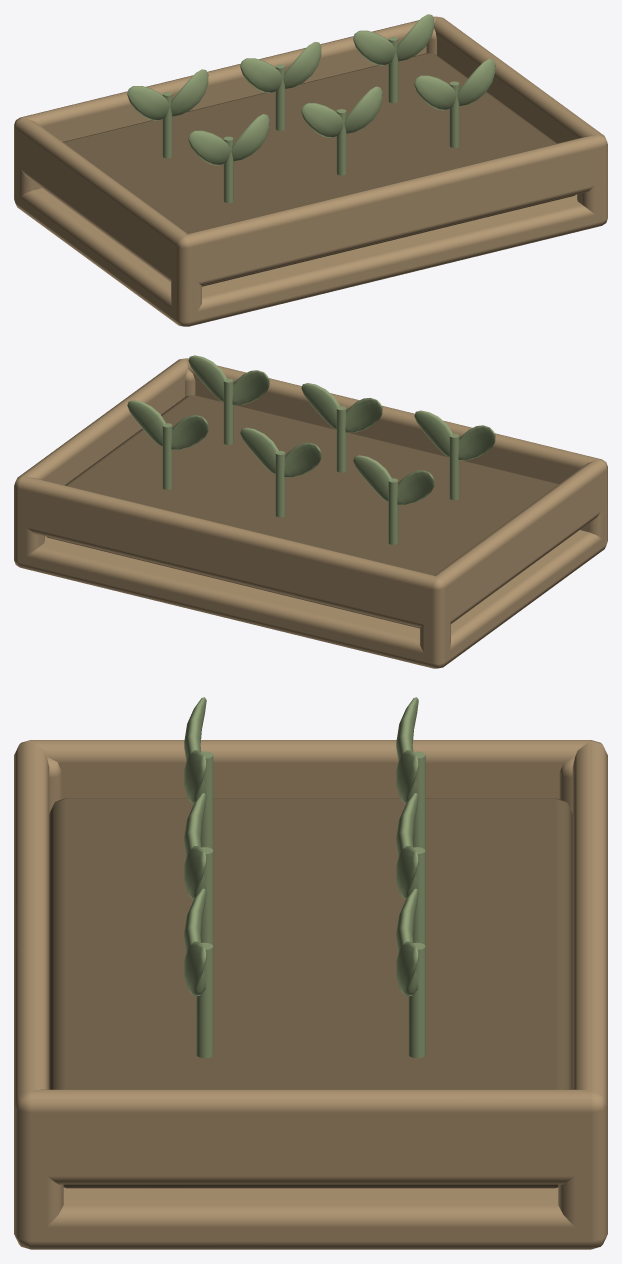
The model's file is seedtray.glb.
The picture shows the model from 3 angles, top to bottom: view 1: azimuth 30°, elevation 25°; view 2: azimuth 150°, elevation 25°; view 3: azimuth 270°, elevation 25°; orthographic projection. The views are drawn at different scales.
Visible parts, largest first — view 1: contained-seed-soil, seed-tray-floor, seed-tray-long-slat-2-1, seed-tray-long-slat-0-1, seed-tray-long-slat-2--1, seed-tray-long-slat-1-1, seed-tray-end-slat-2--1, seed-tray-end-slat-2-1, seed-tray-end-slat-0--1, seed-tray-end-slat-1--1, seed-tray-long-slat-1--1, seed-tray-corner--1-1 (+23 smaller); view 2: contained-seed-soil, seed-tray-floor, seed-tray-long-slat-2--1, seed-tray-long-slat-0--1, seed-tray-long-slat-2-1, seed-tray-end-slat-2--1, seed-tray-end-slat-2-1, seed-tray-end-slat-0--1, seed-tray-long-slat-1--1, seed-tray-end-slat-1--1, seed-tray-long-slat-1-1, seed-tray-long-slat-0-1 (+23 smaller); view 3: contained-seed-soil, seed-tray-floor, seed-tray-end-slat-0-1, seed-tray-end-slat-2--1, seed-tray-end-slat-2-1, seed-tray-end-slat-1-1, seed-tray-long-slat-2--1, seed-tray-long-slat-2-1, seed-tray-end-slat-1--1, seed-tray-end-slat-0--1, seed-tray-corner-1--1, seed-tray-corner-1-1 (+18 smaller).
Part boxes in pixels (x1,y1,x2,y2): contained-seed-soil: (63, 53, 574, 286); seed-tray-floor: (14, 188, 607, 326); seed-tray-long-slat-2-1: (176, 134, 607, 265); seed-tray-long-slat-0-1: (183, 161, 607, 285); seed-tray-long-slat-2--1: (14, 16, 441, 149); seed-tray-long-slat-1-1: (176, 152, 607, 276); seed-tray-end-slat-2--1: (14, 117, 190, 263); seed-tray-end-slat-2-1: (434, 17, 607, 146); seed-tray-end-slat-0--1: (14, 143, 189, 284); seed-tray-end-slat-1--1: (14, 134, 189, 277); seed-tray-long-slat-1--1: (14, 45, 426, 156); seed-tray-corner--1-1: (171, 249, 201, 325); contained-seed-soil: (46, 395, 558, 628); seed-tray-floor: (15, 530, 607, 668); seed-tray-long-slat-2--1: (15, 476, 445, 610); seed-tray-long-slat-0--1: (16, 502, 445, 627); seed-tray-long-slat-2-1: (183, 358, 607, 479); seed-tray-end-slat-2--1: (431, 459, 607, 607); seed-tray-end-slat-2-1: (14, 358, 187, 492); seed-tray-end-slat-0--1: (435, 485, 607, 626); seed-tray-long-slat-1--1: (16, 495, 445, 618); seed-tray-end-slat-1--1: (435, 475, 607, 618); seed-tray-long-slat-1-1: (195, 382, 607, 498); seed-tray-long-slat-0-1: (195, 389, 607, 505); contained-seed-soil: (49, 798, 572, 1188); seed-tray-floor: (14, 1187, 607, 1249); seed-tray-end-slat-0-1: (16, 1137, 607, 1184); seed-tray-end-slat-2--1: (14, 740, 592, 798); seed-tray-end-slat-2-1: (16, 1089, 607, 1151); seed-tray-end-slat-1-1: (16, 1122, 604, 1163); seed-tray-long-slat-2--1: (572, 740, 607, 1150); seed-tray-long-slat-2-1: (14, 740, 49, 1151); seed-tray-end-slat-1--1: (62, 775, 559, 798); seed-tray-end-slat-0--1: (62, 788, 559, 799); seed-tray-corner-1--1: (558, 1116, 607, 1249); seed-tray-corner-1-1: (14, 1115, 63, 1248).
Size of the model in its own units: 0.61 by 0.1965 by 0.42.
